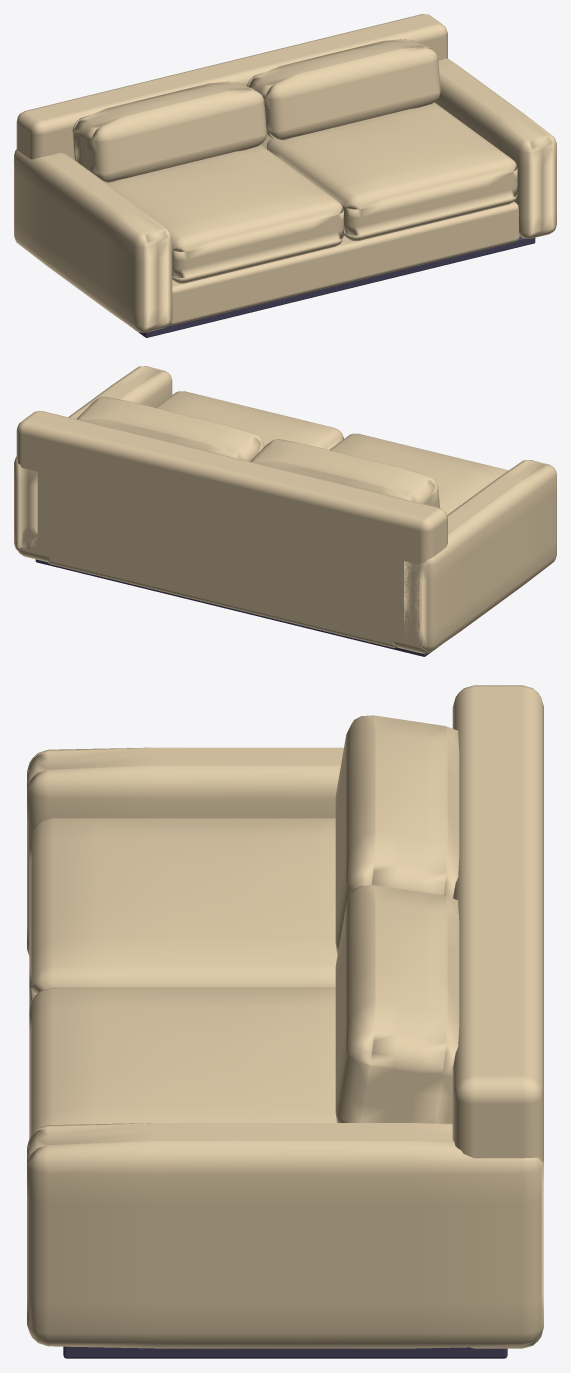
The model's file is sofa_low.glb.
3 views of the same model, one above another, from view 1: azimuth 30°, elevation 25°; view 2: azimuth 150°, elevation 25°; view 3: azimuth 270°, elevation 25° (orthographic). The views are drawn at different scales.
Visible parts, largest first — view 1: sofa_low; view 2: sofa_low; view 3: sofa_low.
Part boxes in pixels (x1=…): sofa_low: x1=14, y1=14, x2=556, y2=337; sofa_low: x1=14, y1=366, x2=556, y2=656; sofa_low: x1=27, y1=685, x2=543, y2=1358.
Bounding box in the file's own units: 1.6 × 0.55 × 0.85.
